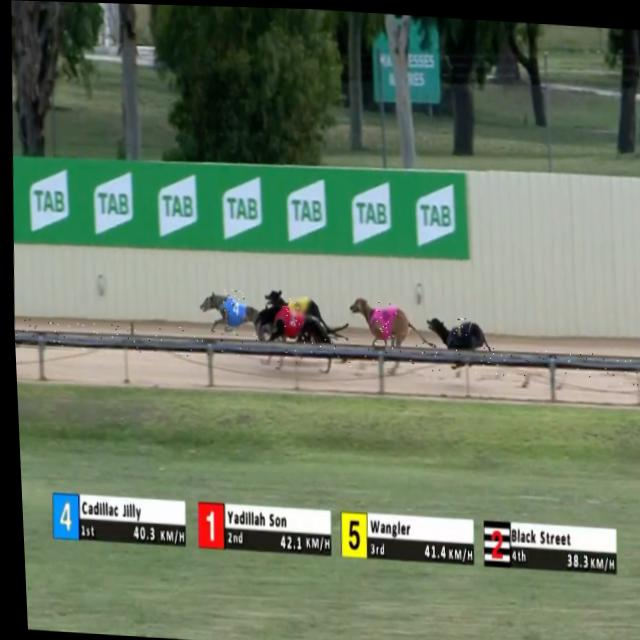dog_eight: (373, 297, 395, 339)
dog_five: (285, 293, 309, 320)
dog_four: (218, 287, 244, 328)
dog_one: (278, 304, 301, 339)
dog_seven: (448, 314, 466, 346)
rail: (12, 332, 640, 369)
